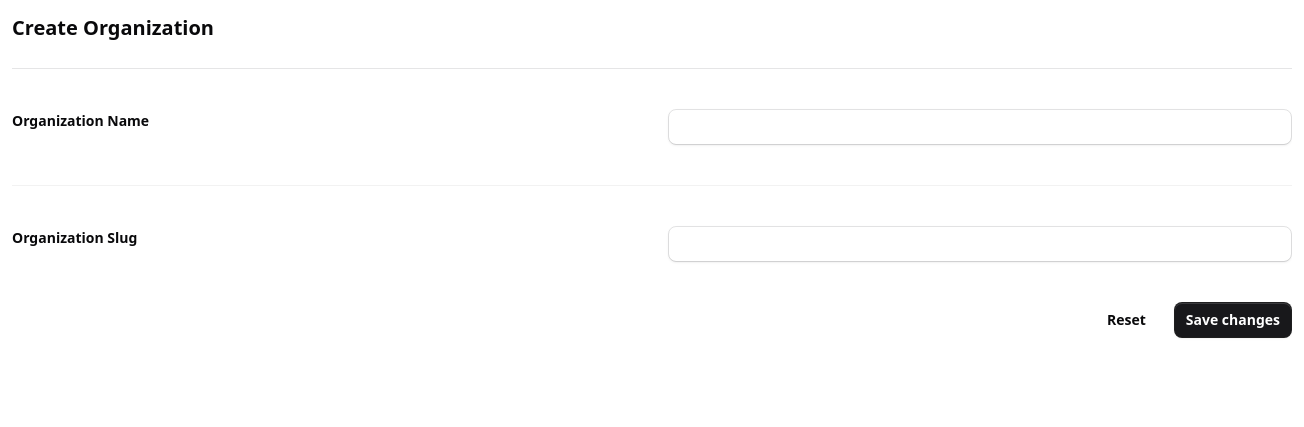
CreateOrg Component › shows validation errors for empty fields
The image size is (1304, 427).
Click the button "Save changes" at (1233, 320), box [1174,302,1292,338]
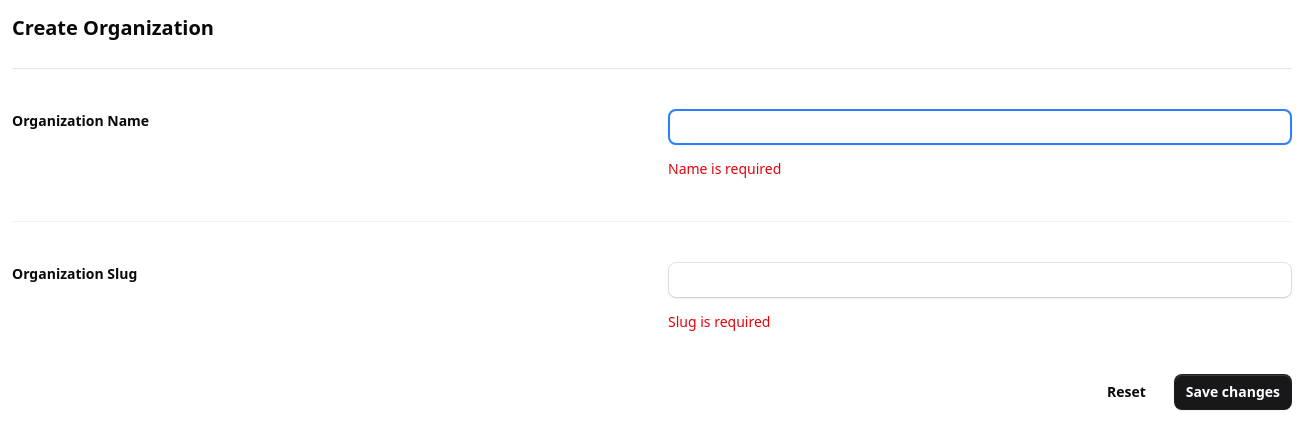
Check: the text "Name is required" is shown, box [668,159,781,178]
Check: the text "Slug is required" is shown, box [668,312,770,331]
